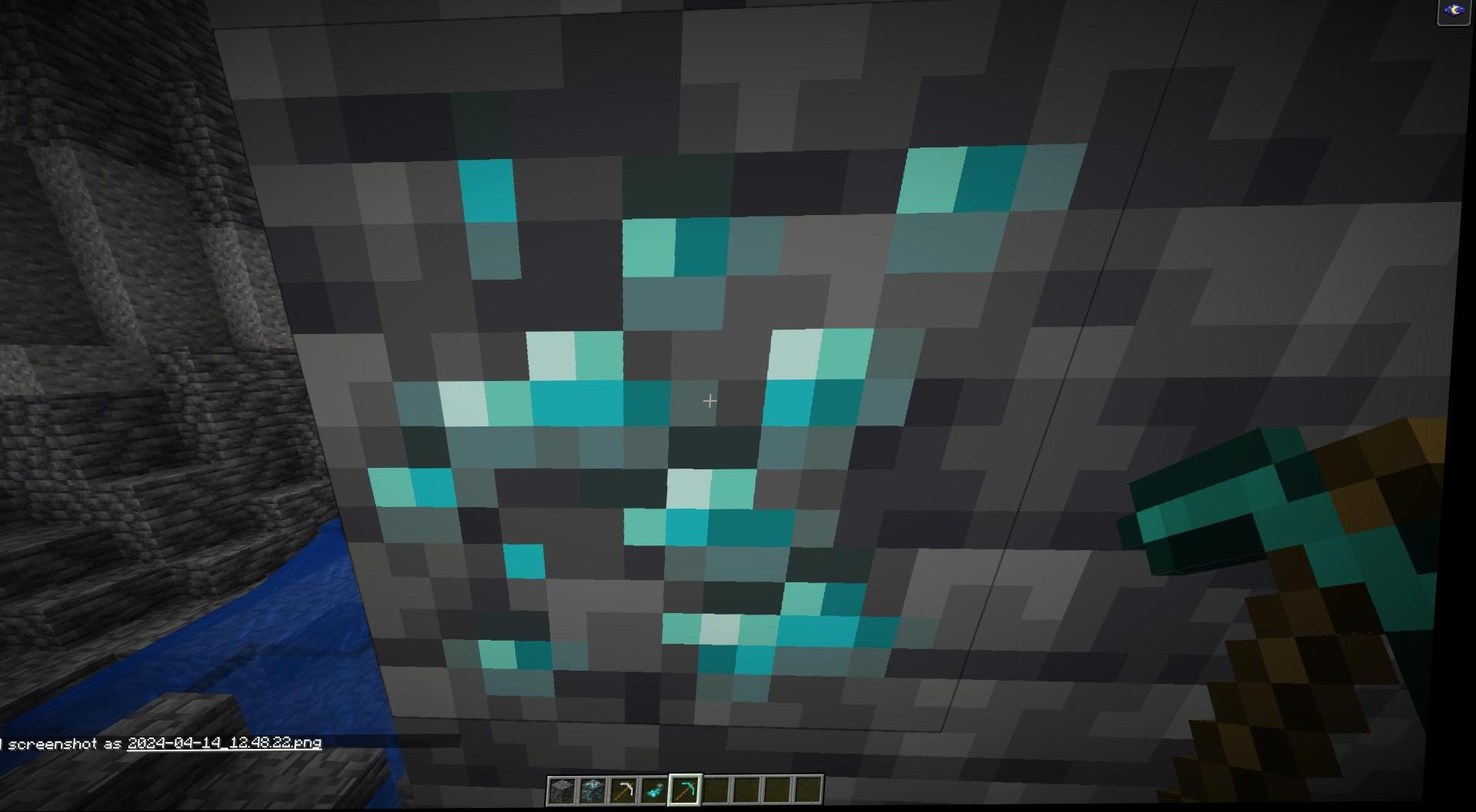diamond ore: (289, 84, 1096, 727)
